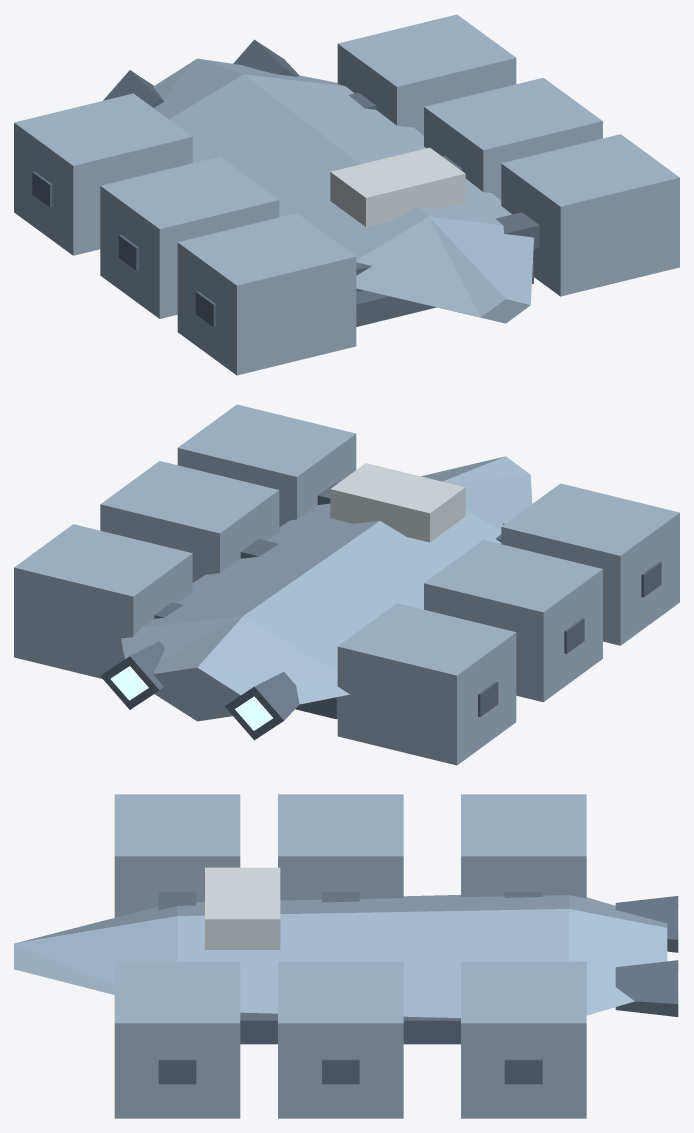
3 views of the same model, one above another, from view 1: azimuth 30°, elevation 25°; view 2: azimuth 150°, elevation 25°; view 3: azimuth 270°, elevation 25° (orthographic). The views are drawn at different scales.
Bounding box in the file's own units: 7.85 × 1.75 × 9.54.
